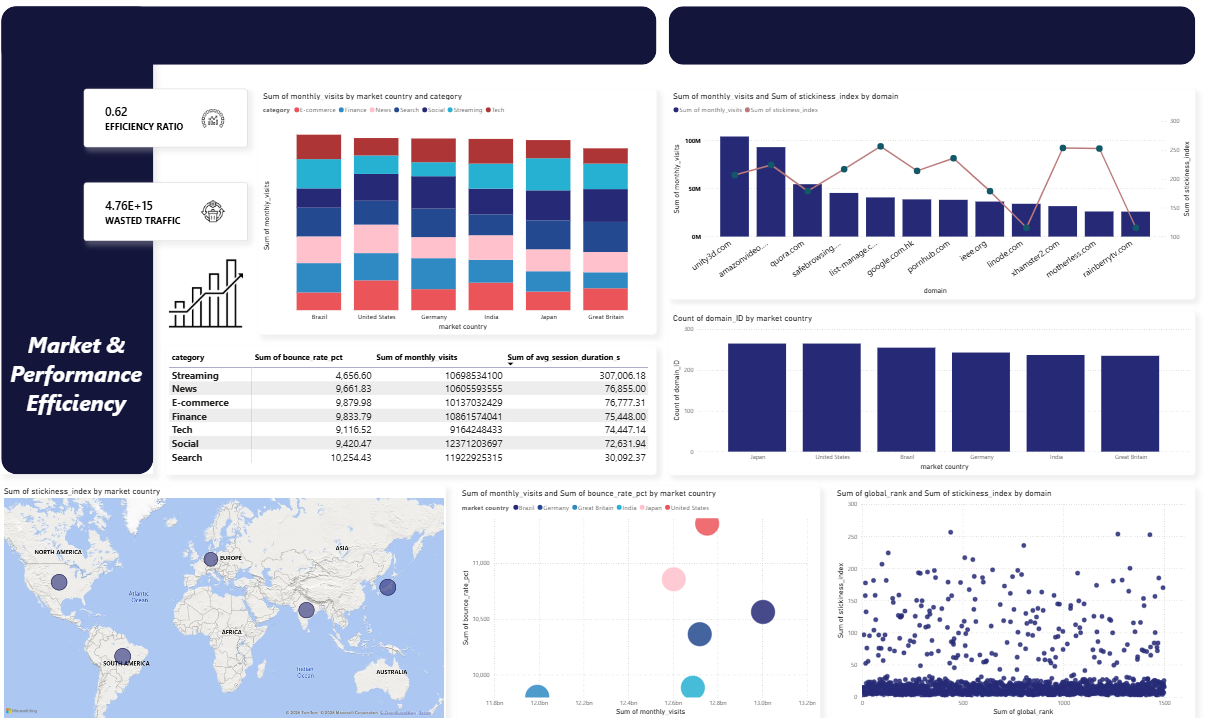

Layout of this report page (visuals, bound fields, positions):
{"tool":"powerbi","page":{"name":"Market & Performance Efficiency","canvas":[2500,1500],"ordinal":1},"visuals":[{"type":"clusteredColumnChart","fields":{"Y":["Count(Dim_Domain.domain_ID)"],"Category":["Dim_Market.market country"]},"box":[1392,648,1080,336],"z":0},{"type":"columnChart","fields":{"Category":["Dim_Market.market country"],"Series":["Dim_category.category"],"Y":["Sum(fac_table.monthly_visits)"]},"box":[552,192,816,504],"z":1000},{"type":"scatterChart","fields":{"X":["Sum(fac_table.monthly_visits)"],"Y":["Sum(fac_table.bounce_rate_pct)"],"Series":["Dim_Market.market country"]},"box":[960,1008,744,480],"z":2000},{"type":"map","fields":{"Category":["Dim_Market.market country"],"Size":["Sum(fac_table.stickiness_index)"]},"box":[24,1008,912,480],"z":3000},{"type":"lineClusteredColumnComboChart","fields":{"Category":["Dim_Domain.domain"],"Y2":["Sum(fac_table.stickiness_index)"],"Y":["Sum(fac_table.monthly_visits)"]},"box":[1392,192,1080,432],"z":4000},{"type":"scatterChart","fields":{"Y":["Sum(fac_table.stickiness_index)"],"X":["Sum(Dim_Domain.global_rank)"],"Category":["Dim_Domain.domain"]},"box":[1728,1008,744,480],"z":5000},{"type":"pivotTable","fields":{"Values":["Sum(fac_table.bounce_rate_pct)","Sum(fac_table.monthly_visits)","Sum(fac_table.avg_session_duration_s)"],"Rows":["Dim_category.category"]},"box":[360,720,1008,264],"z":6000},{"type":"shape","box":[24,24,312,960],"z":7000},{"type":"shape","box":[24,24,1344,120],"z":8000},{"type":"cardVisual","fields":{"Data":["fac_table.EFFICIENCY RATIO"]},"box":[192,192,336,120],"z":8000,"group":"g1"},{"type":"shape","box":[1392,24,1080,120],"z":9000},{"type":"cardVisual","fields":{"Data":["fac_table.WASTED TRAFFIC"]},"box":[192,384,336,120],"z":9000,"group":"g2"},{"type":"group","id":"g1","title":"Group 1","box":[192,168,336,168],"z":10000},{"type":"group","id":"g2","title":"Group 2","box":[192,384,336,120],"z":11000},{"type":"image","box":[432,168,48,168],"z":11001,"group":"g1"},{"type":"image","box":[432,408,48,72],"z":11002,"group":"g2"},{"type":"image","box":[360,528,168,168],"z":12000}]}

Visuals, with their boxes in screenshot pixels (x1, y1, x2, y2), scaled from the page's 2500x1500 canvas onto the 1206x718 screenshot:
clusteredColumnChart - Count(Dim_Domain.domain_ID) x Dim_Market.market country: crop(672, 310, 1192, 471)
columnChart - Dim_Market.market country x Dim_category.category: crop(266, 92, 660, 333)
scatterChart - Sum(fac_table.monthly_visits) x Sum(fac_table.bounce_rate_pct): crop(463, 482, 822, 712)
map - Dim_Market.market country x Sum(fac_table.stickiness_index): crop(12, 482, 452, 712)
lineClusteredColumnComboChart - Dim_Domain.domain x Sum(fac_table.stickiness_index): crop(672, 92, 1192, 299)
scatterChart - Sum(fac_table.stickiness_index) x Sum(Dim_Domain.global_rank): crop(834, 482, 1192, 712)
pivotTable - Sum(fac_table.bounce_rate_pct) x Sum(fac_table.monthly_visits): crop(174, 345, 660, 471)
shape: crop(12, 11, 162, 471)
shape: crop(12, 11, 660, 69)
cardVisual - fac_table.EFFICIENCY RATIO: crop(93, 92, 255, 149)
shape: crop(672, 11, 1192, 69)
cardVisual - fac_table.WASTED TRAFFIC: crop(93, 184, 255, 241)
"Group 1" group: crop(93, 80, 255, 161)
"Group 2" group: crop(93, 184, 255, 241)
image: crop(208, 80, 232, 161)
image: crop(208, 195, 232, 230)
image: crop(174, 253, 255, 333)
